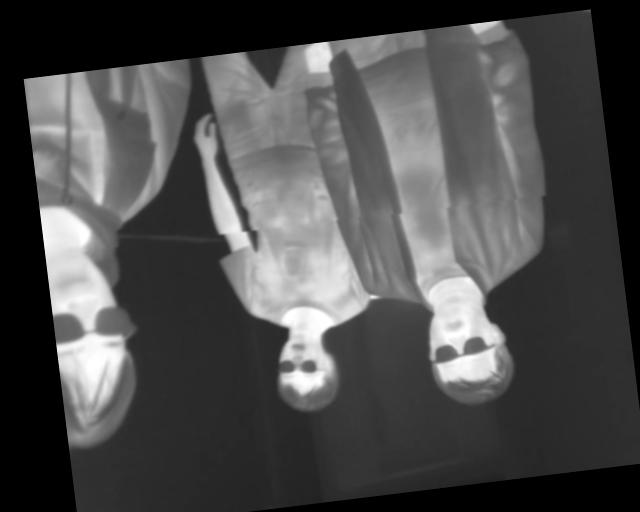face: (46, 247, 145, 451), (420, 290, 518, 410), (268, 324, 344, 417)
